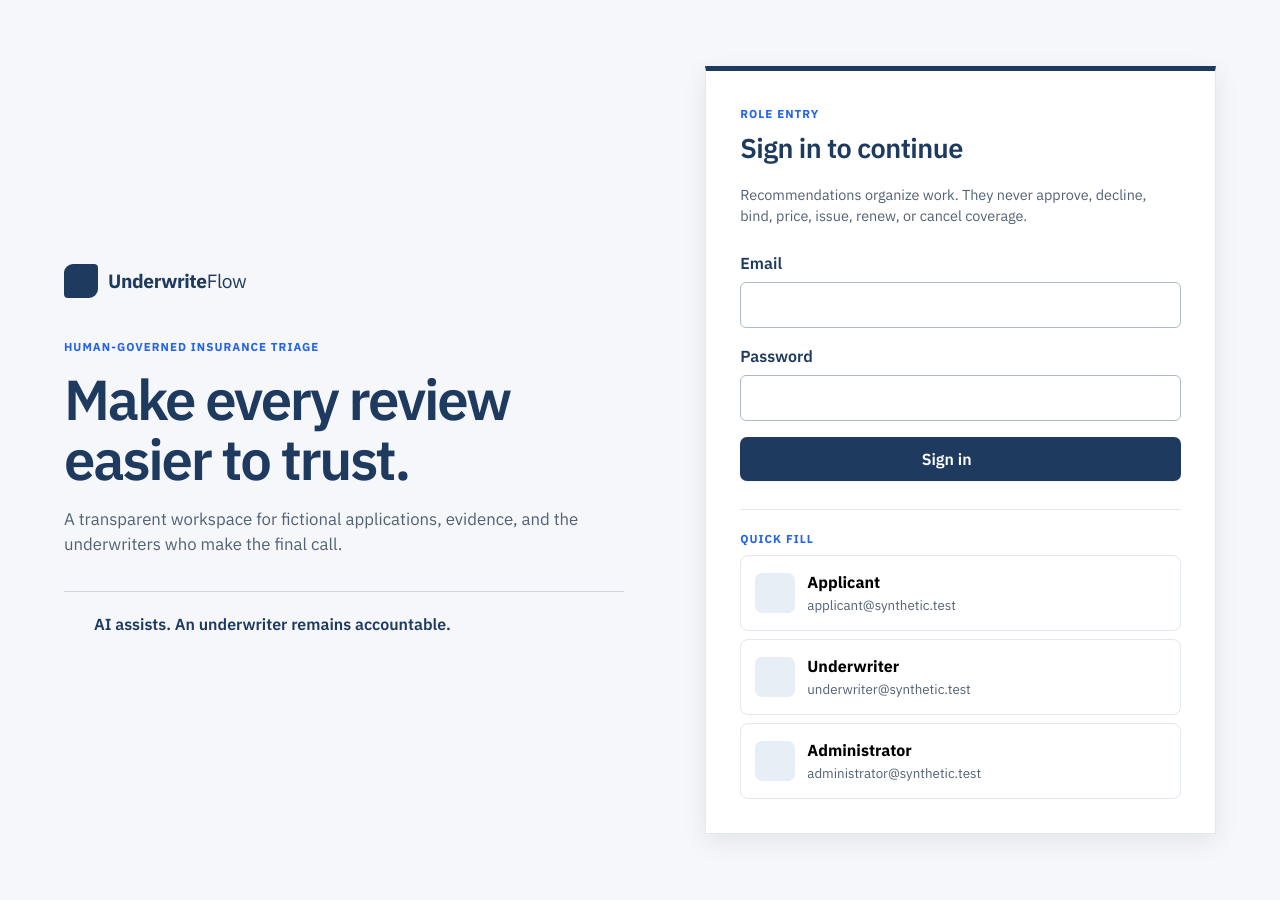
Scenario: administrator queue inspection › opens the selected case audit history
This screenshot has width=1280, height=900.
In the field labelled "Email": (961, 305) [740, 282, 1181, 328], type "administrator@synthetic.test"
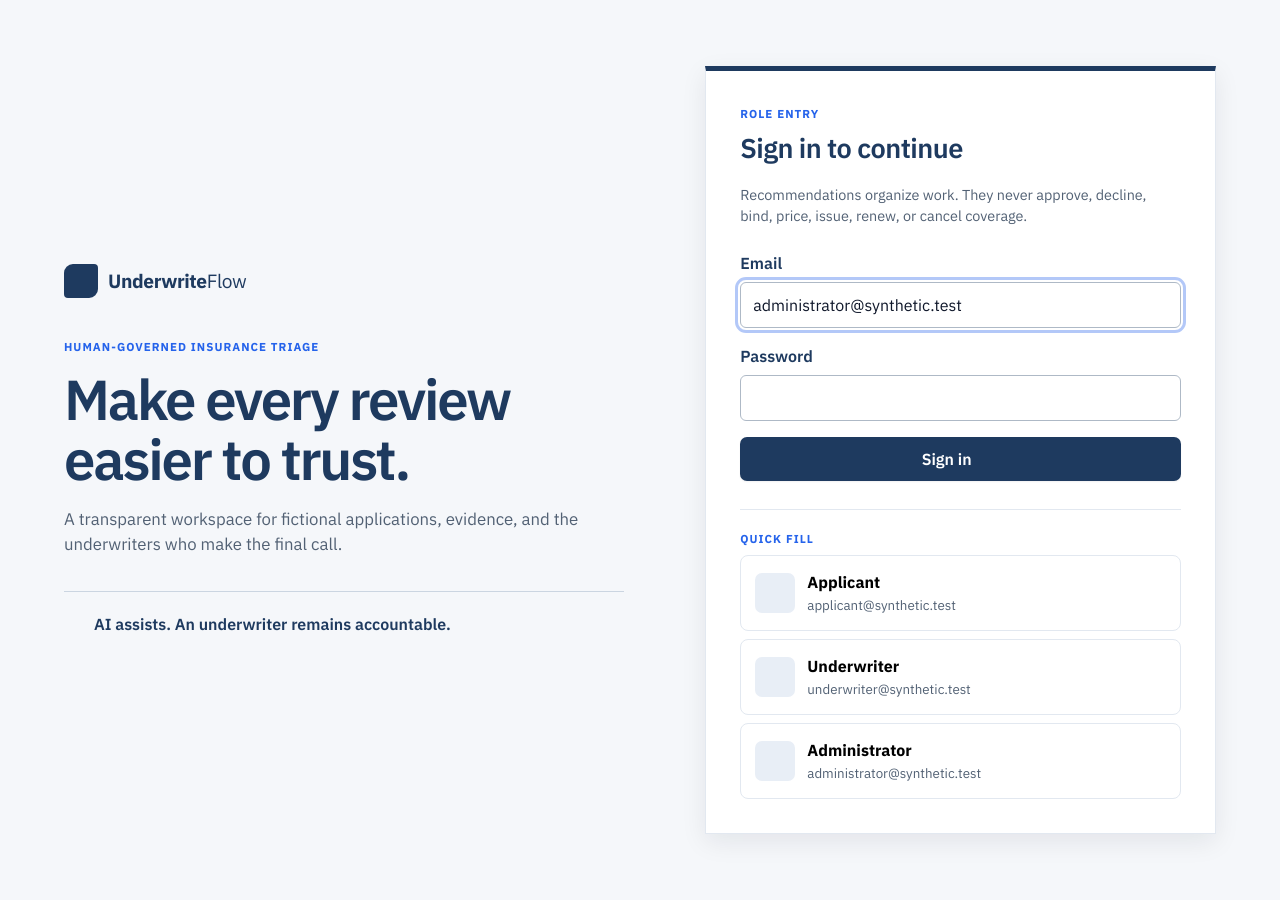
In the password field labelled "Password": (961, 398) [740, 375, 1181, 421], type "underwriteflow-demo-administrator"
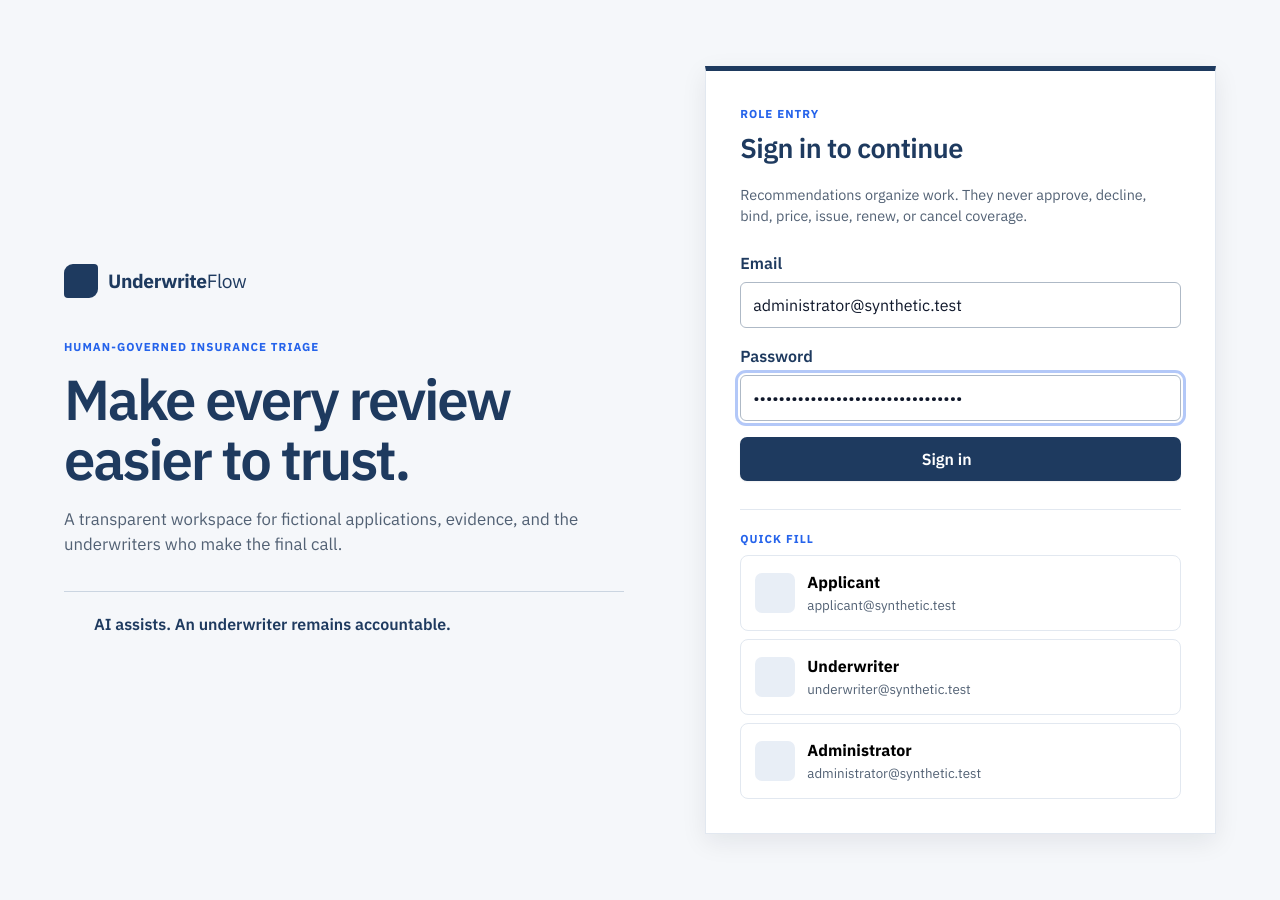
Click the button "Sign in": (961, 459) [740, 437, 1181, 481]
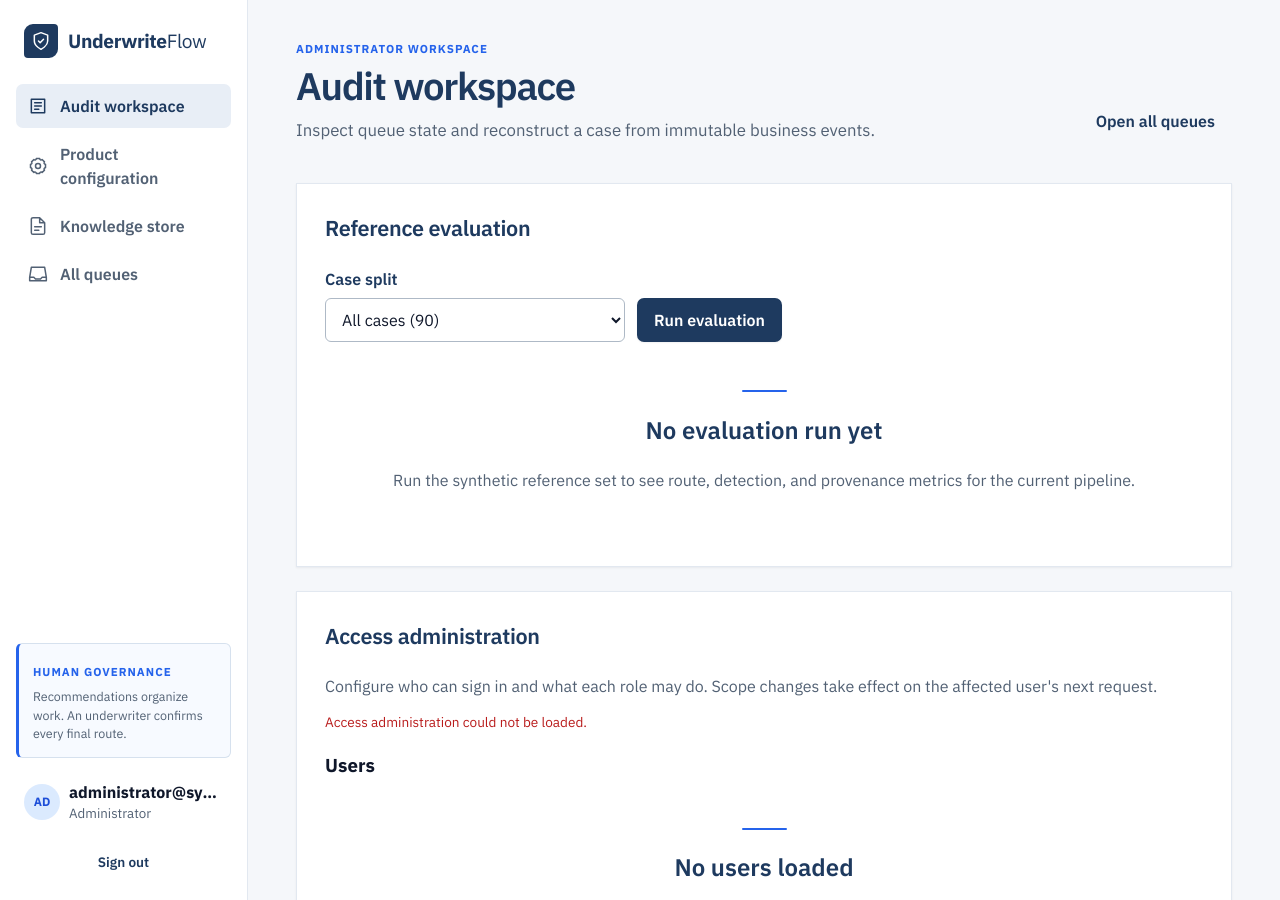
Click the button "Open all queues": (1155, 122) [1079, 100, 1232, 144]
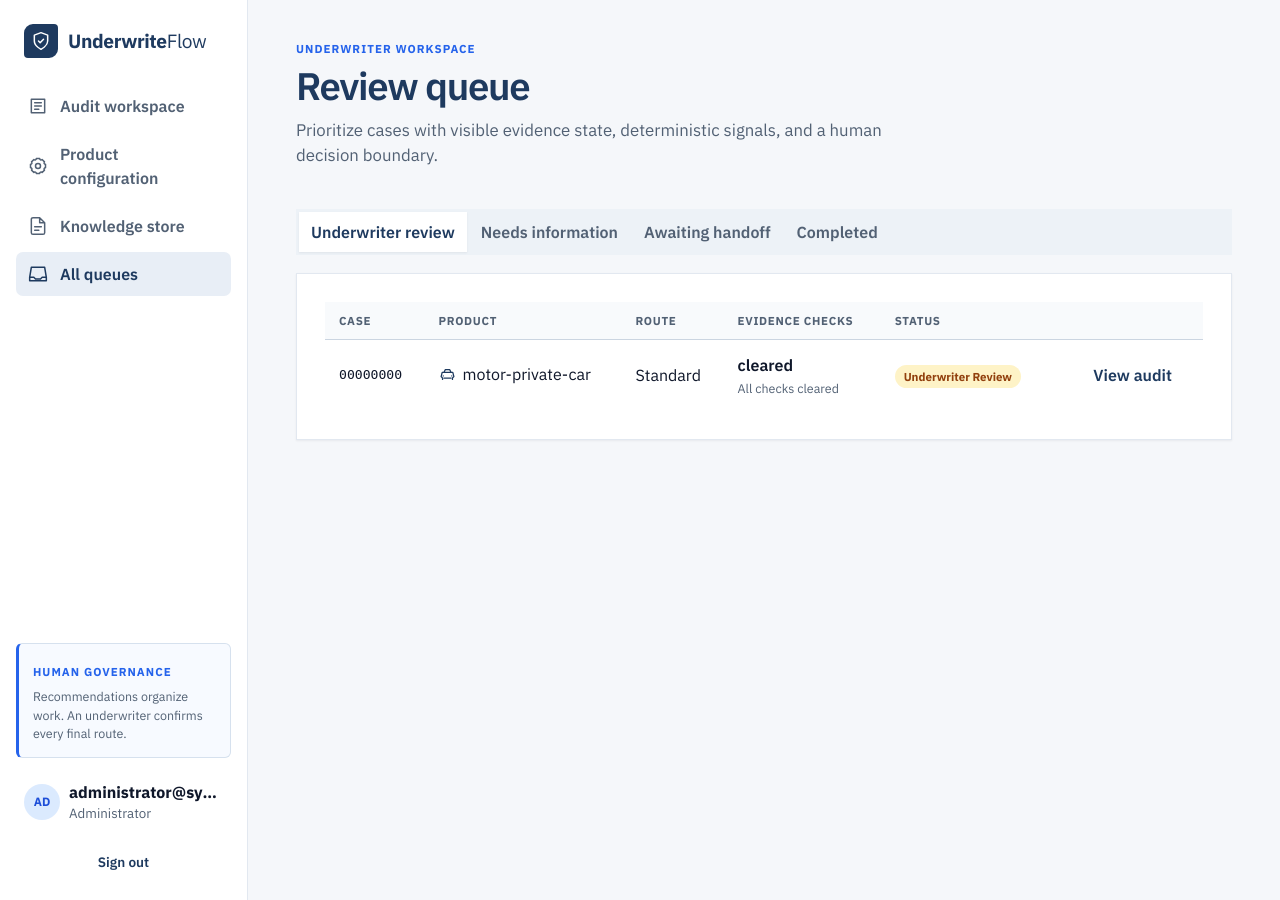
Click the button "View audit": (1133, 375) [1076, 353, 1189, 397]
(page scrolled)
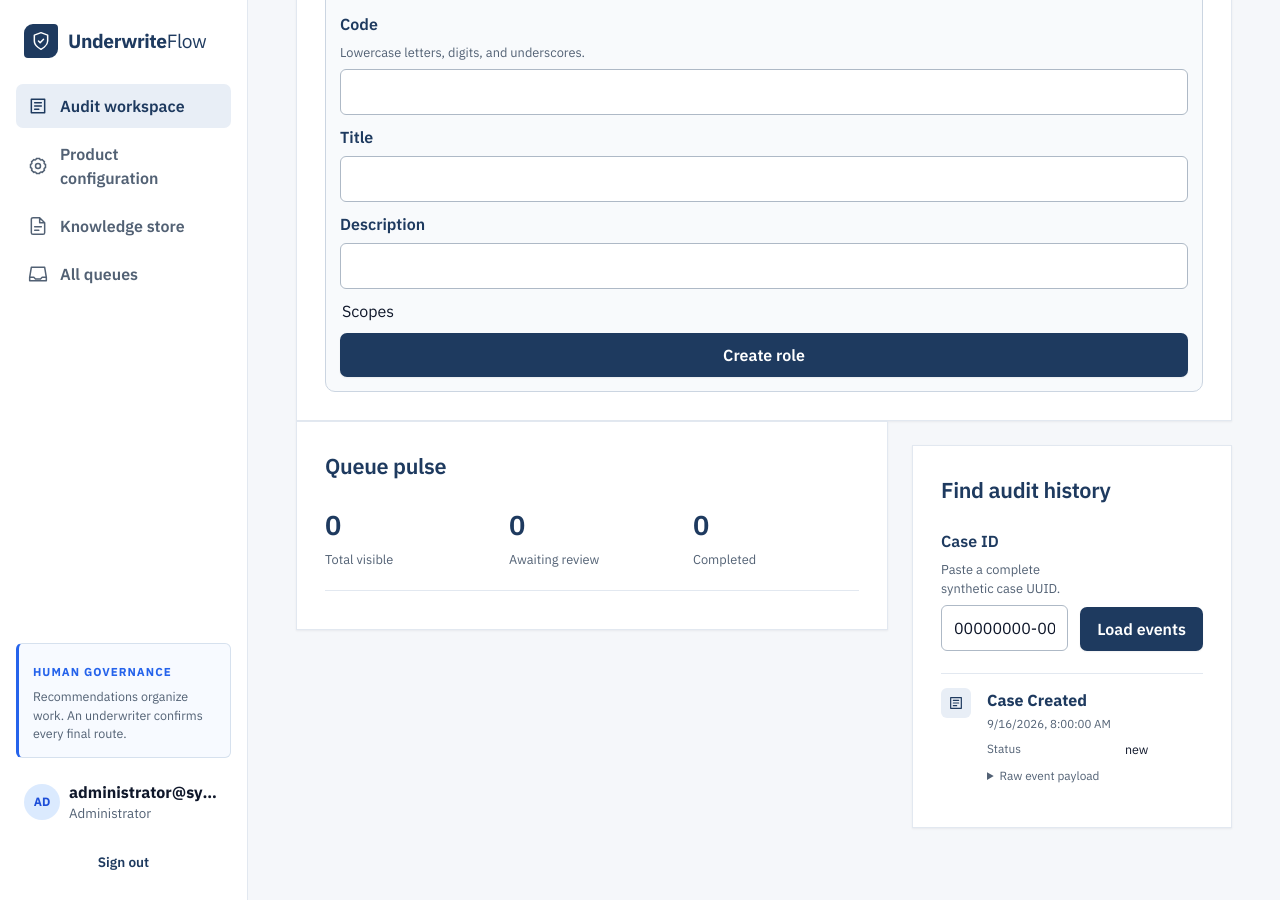
Result: the text "Case created" is shown at [987, 690, 1087, 710]
